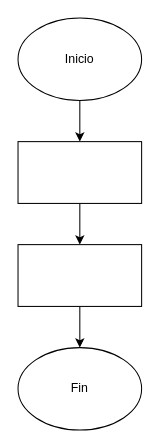
This 160x448 diagram has some shape labels left out. Here are the shapes that lost their labels. From the top down, the centre of each, then its label:
the point at 79,172: Apagar F
the point at 79,275: Encender B
